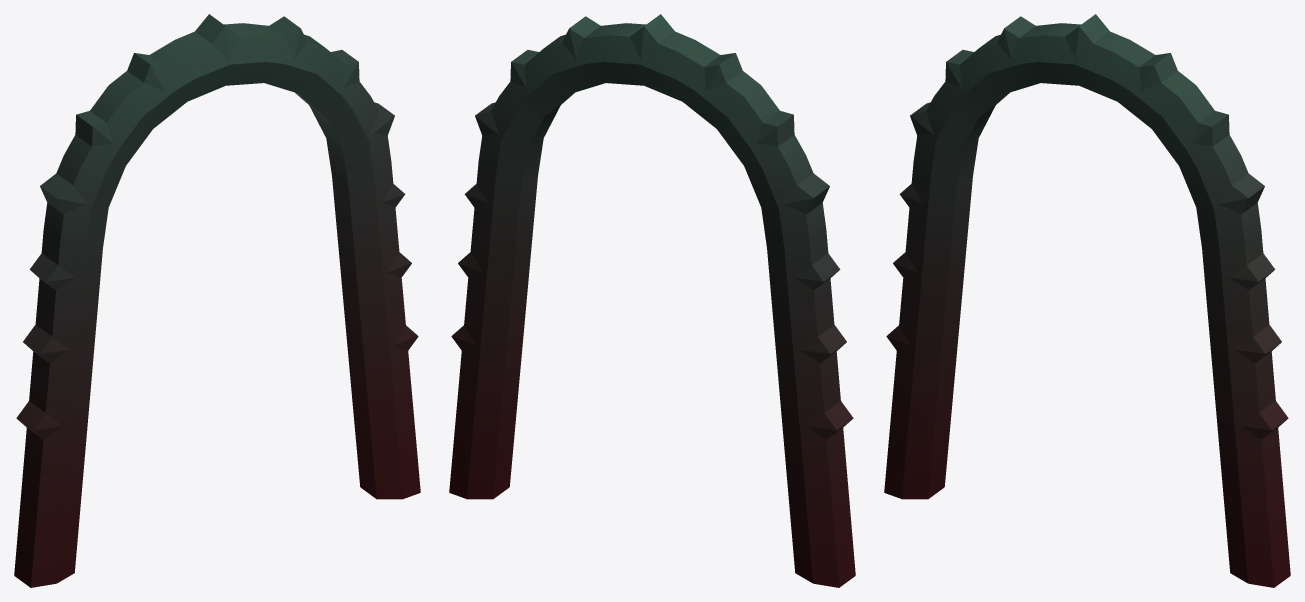
Rendered from SM_Arch_Large_01.fbx.
3 renders of one model, left to right at view 1: azimuth 30°, elevation 25°; view 2: azimuth 150°, elevation 25°; view 3: azimuth 330°, elevation 25°, orthographic.
Parts seen in each view (by area): view 1: SM_Arch_Large_01; view 2: SM_Arch_Large_01; view 3: SM_Arch_Large_01.
Boxes of the visible parts, left/top/right/bottom form: SM_Arch_Large_01: left=14, top=14, right=420, bottom=587; SM_Arch_Large_01: left=449, top=14, right=855, bottom=587; SM_Arch_Large_01: left=884, top=14, right=1290, bottom=587.
Size of the model in its own units: 676 by 851 by 75.
1 material, 1 textured.
